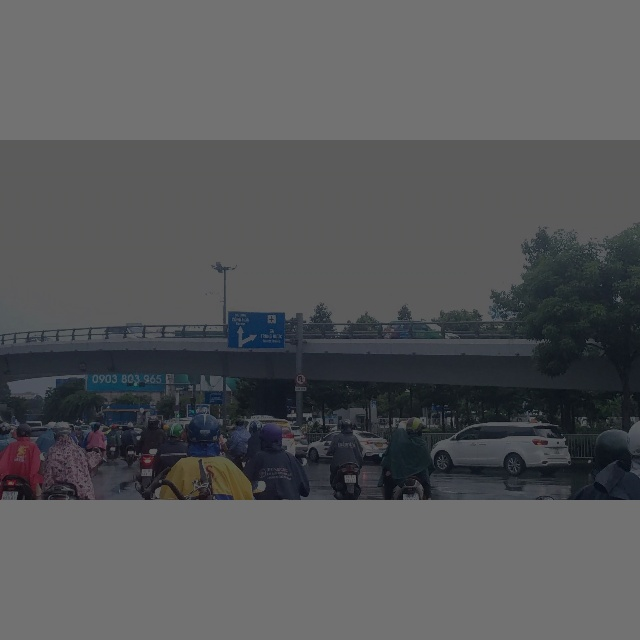P.124b1: (295, 373, 306, 385)
